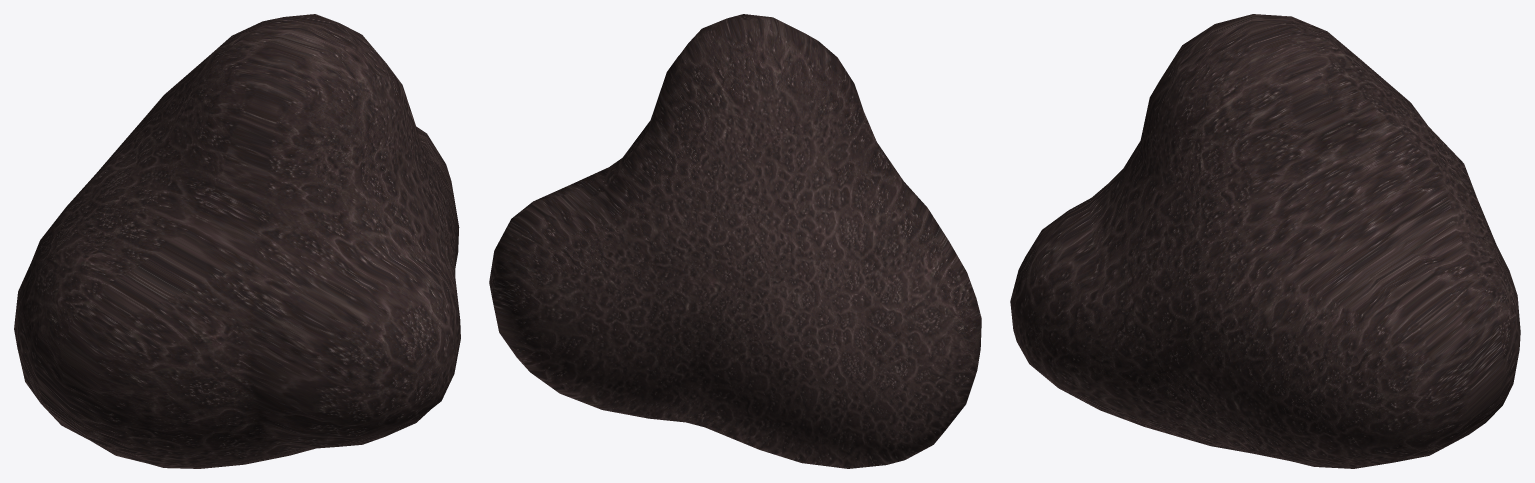
Rendered from shadowflesh_chunk01_decomposed.dae.
The picture shows the model from 3 angles, left to right: view 1: azimuth 30°, elevation 25°; view 2: azimuth 150°, elevation 25°; view 3: azimuth 270°, elevation 25°; orthographic projection. The views are drawn at different scales.
Visible parts, largest first — view 1: chunk_01; view 2: chunk_01; view 3: chunk_01.
Part boxes in pixels (<box>): chunk_01: <box>14,14,460,468</box>; chunk_01: <box>489,14,981,468</box>; chunk_01: <box>1010,14,1520,468</box>.
Bounding box in the file's own units: 0.7754 × 0.6917 × 0.7315.
